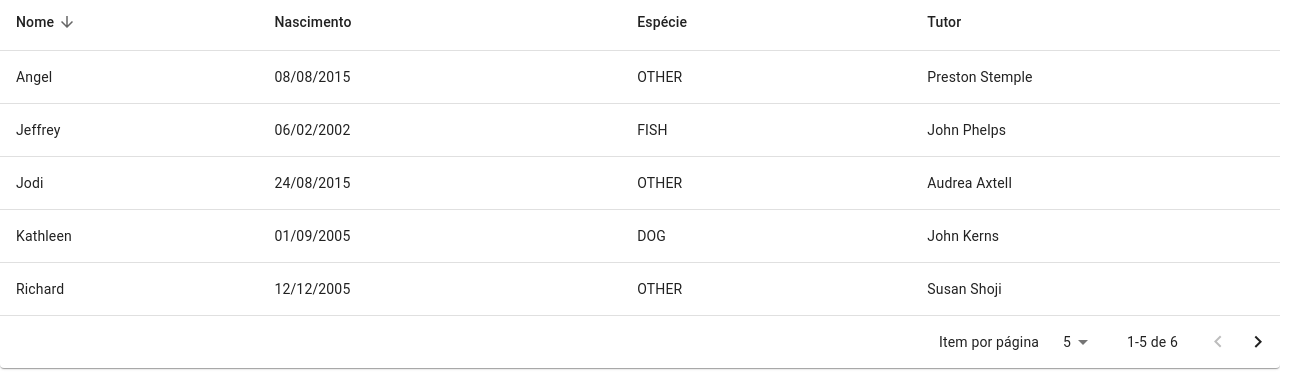
TableLazy › Pagination › should go to a next page and previous page when click in buttons page navigate
Step 1. Click the button titled "Go to next page" → (1258, 342), box [1238, 322, 1278, 362]
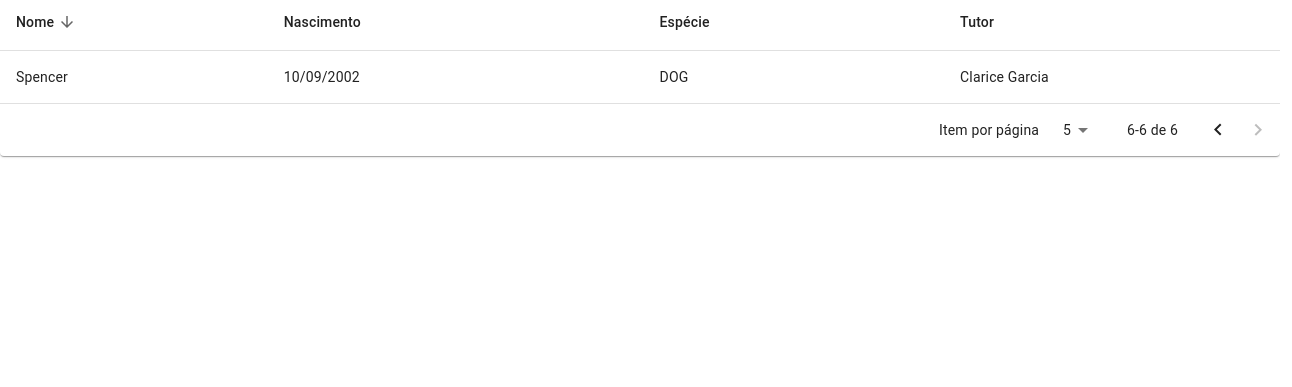
Now the text "6-6 de 6" is shown, box [1127, 120, 1178, 140]
Step 2. Click the button titled "Go to previous page" → (1218, 130), box [1198, 110, 1238, 150]
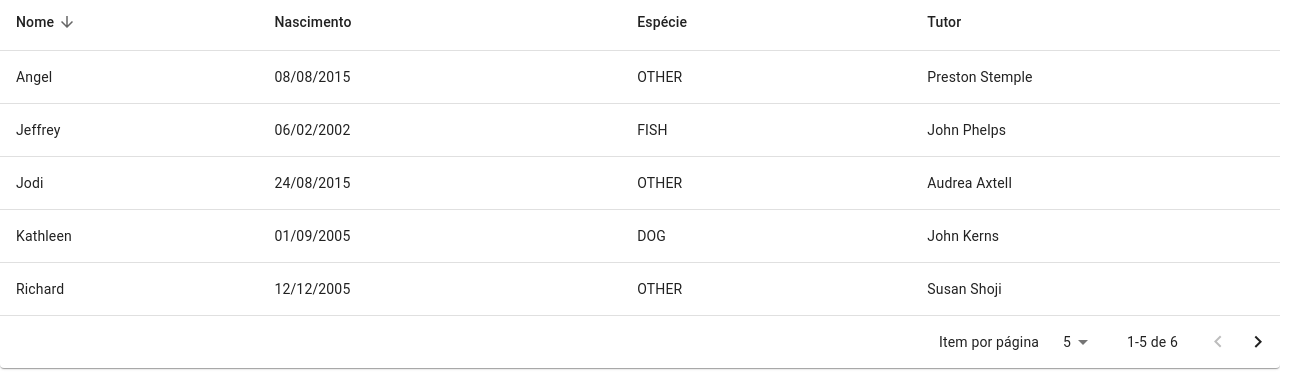
Now the text "1-5 de 6" is shown, box [1127, 332, 1178, 352]
